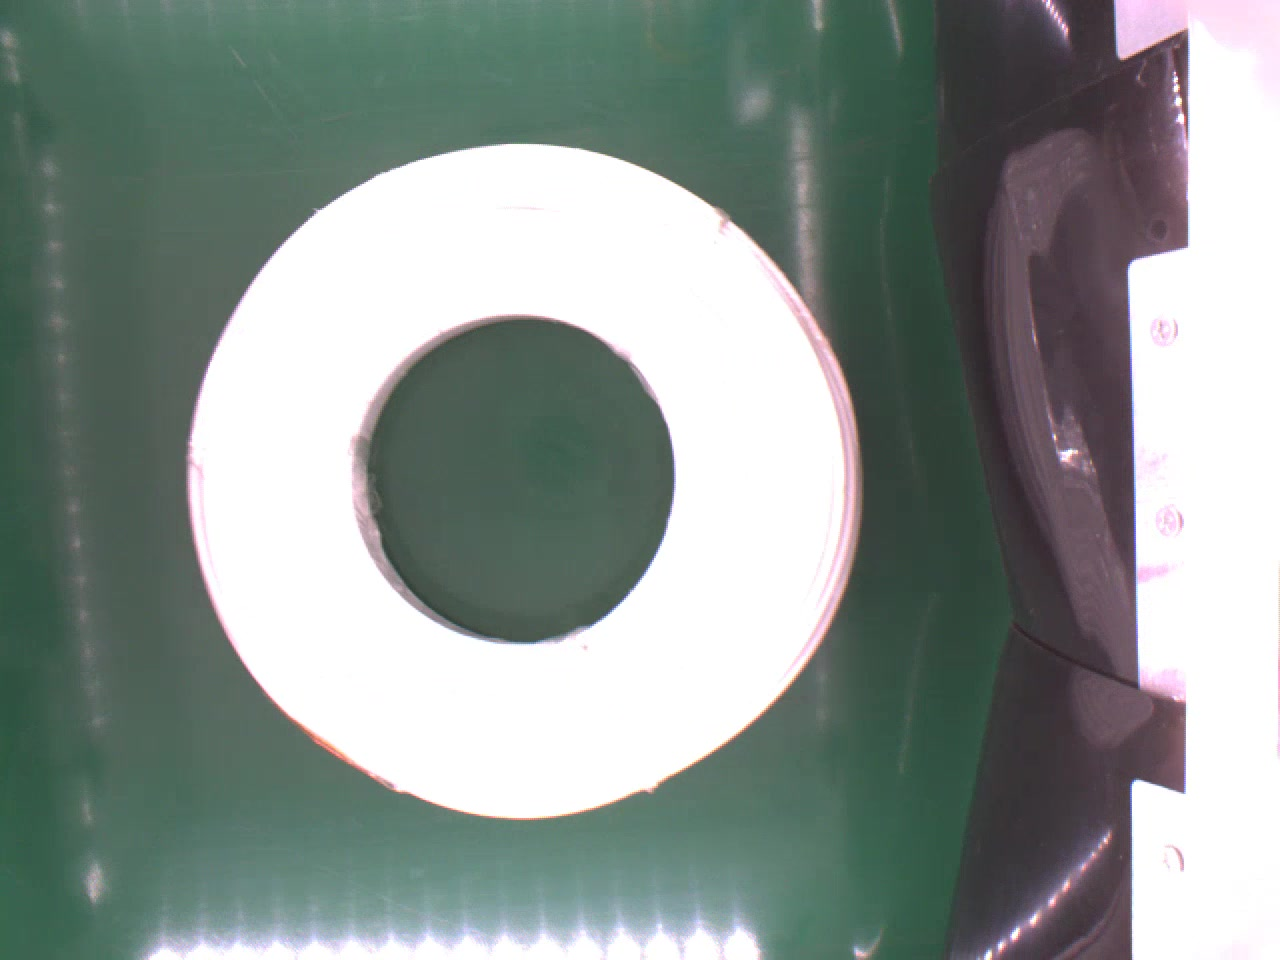white: (181, 133, 881, 820)
